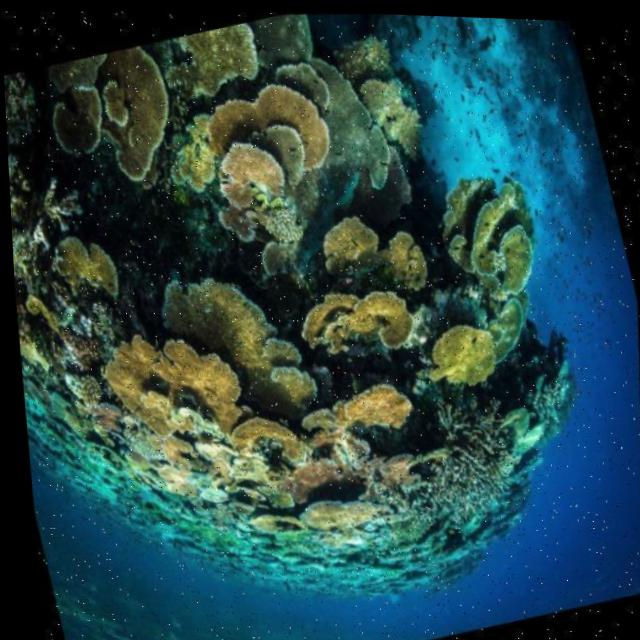Healthy Coral: (2, 48, 585, 599)
